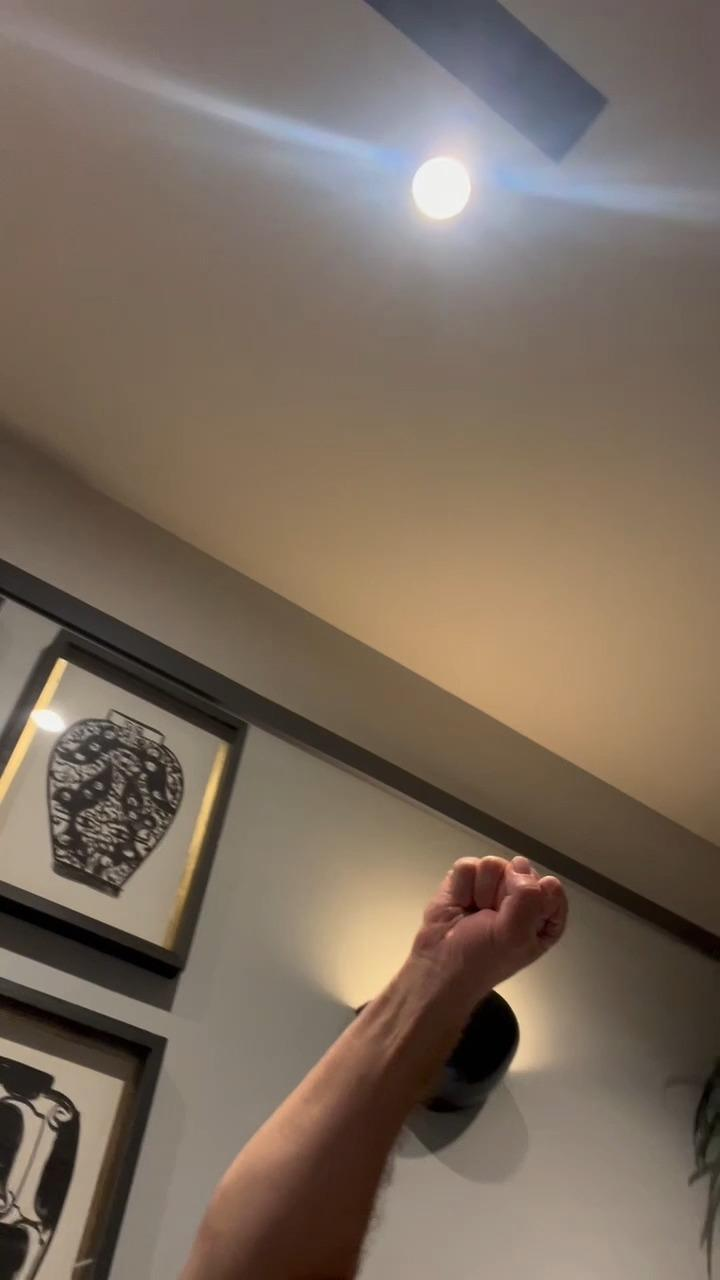Rock: (410, 848, 570, 984)
